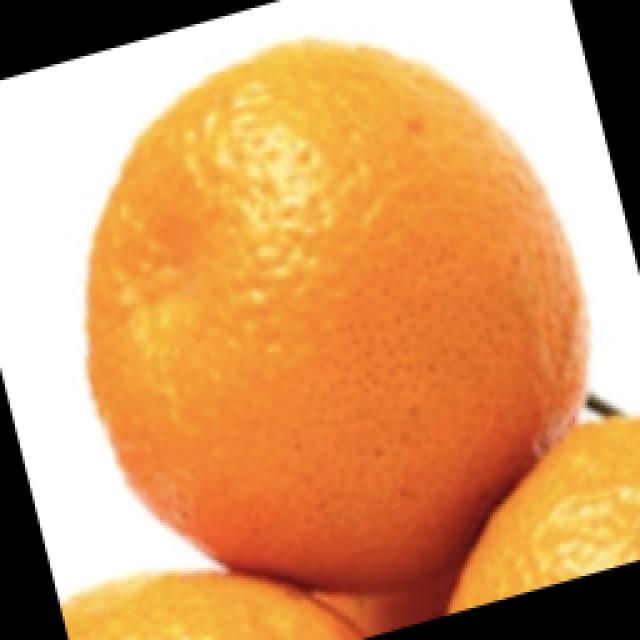orange: (95, 31, 603, 586)
